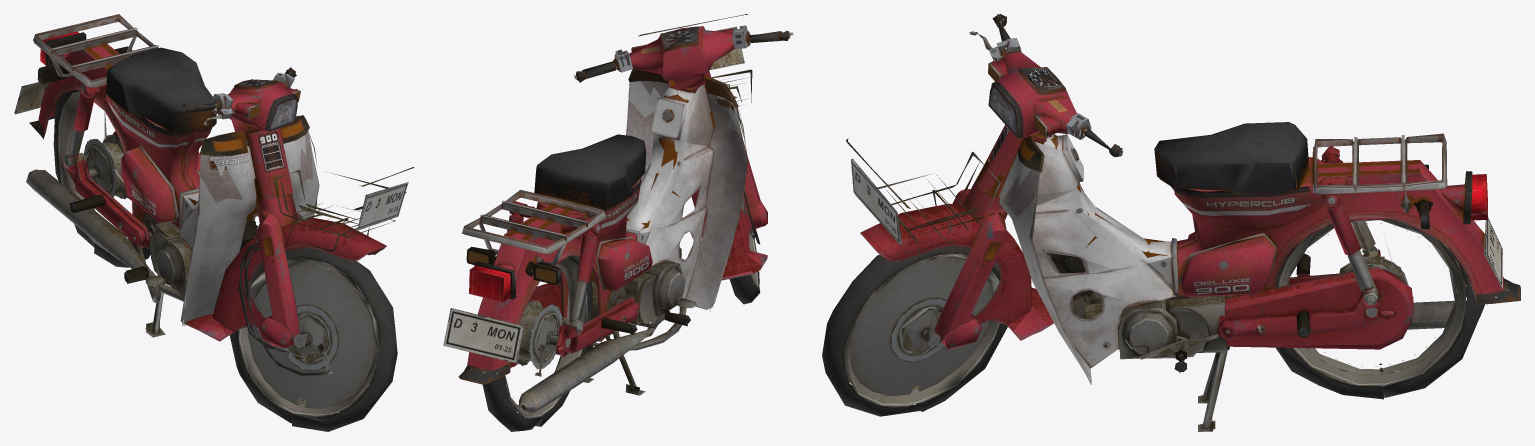
The model's file is cubC70.glb.
The picture shows the model from 3 angles, left to right: view 1: azimuth 30°, elevation 25°; view 2: azimuth 150°, elevation 25°; view 3: azimuth 270°, elevation 25°; orthographic projection. The views are drawn at different scales.
Parts seen in each view (by area): view 1: SCSeat_Low.004_MI_SC_PartsA_0; view 2: SCSeat_Low.004_MI_SC_PartsA_0; view 3: SCSeat_Low.004_MI_SC_PartsA_0.
Boxes of the visible parts, left/top/right/bottom form: SCSeat_Low.004_MI_SC_PartsA_0: left=14, top=14, right=414, bottom=431; SCSeat_Low.004_MI_SC_PartsA_0: left=443, top=14, right=793, bottom=431; SCSeat_Low.004_MI_SC_PartsA_0: left=822, top=14, right=1520, bottom=431.
Size of the model in its own units: 0.6834 by 1.06 by 1.9.
Materials: 2 (2 with a texture image).
